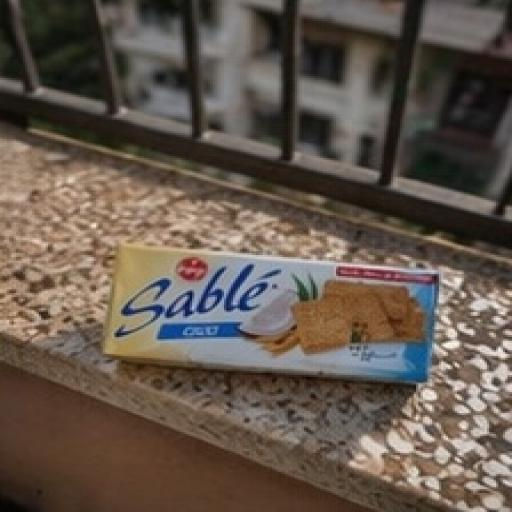sabl: (73, 190, 474, 448)
